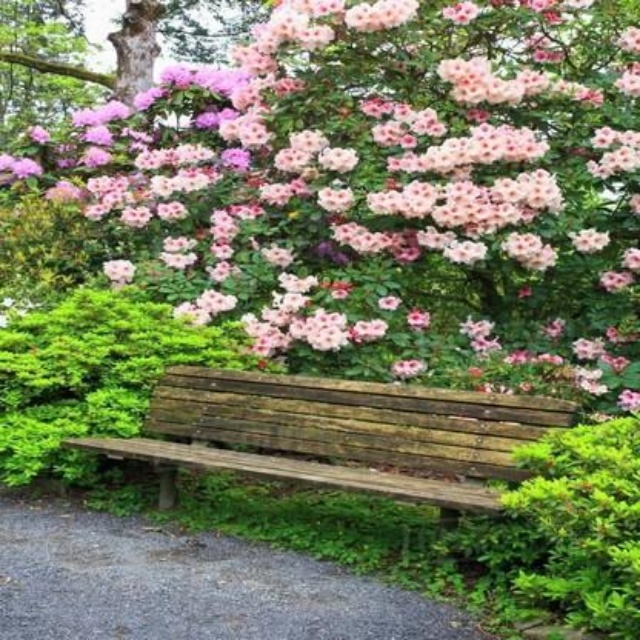obstacle: (63, 371, 605, 566)
